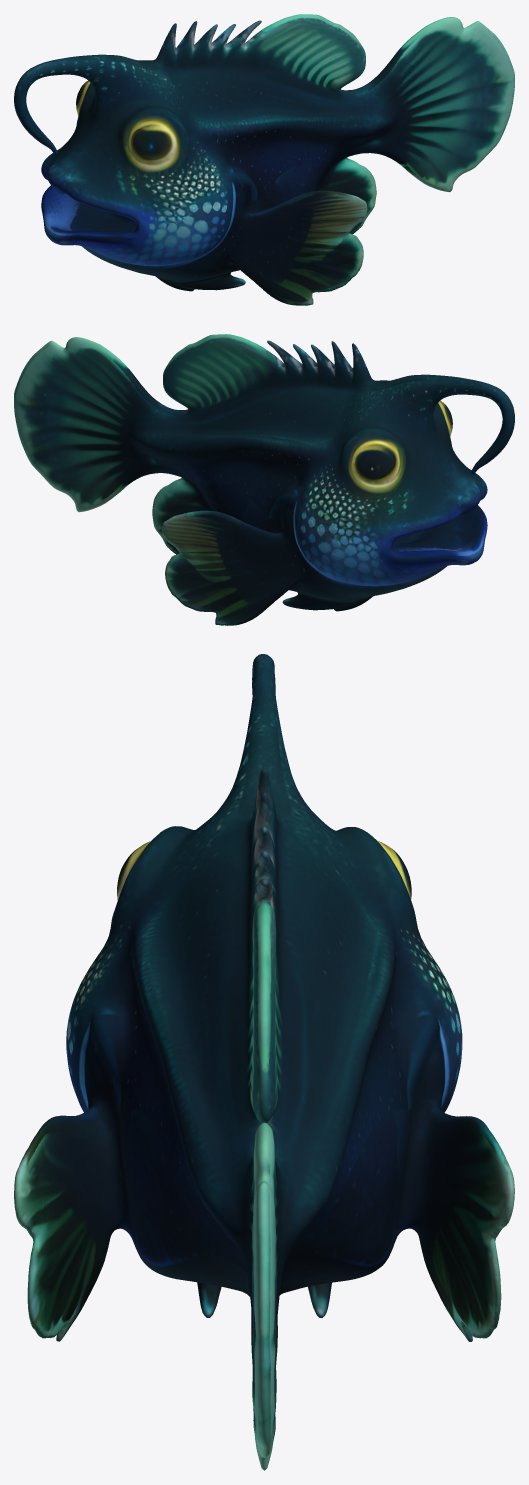
The model's file is romantex_23.glb.
The picture shows the model from 3 angles, top to bottom: view 1: azimuth 30°, elevation 25°; view 2: azimuth 150°, elevation 25°; view 3: azimuth 270°, elevation 25°; orthographic projection. The views are drawn at different scales.
Parts seen in each view (by area): view 1: texture_v130_hdr_21w_pbr_dino_11w.001; view 2: texture_v130_hdr_21w_pbr_dino_11w.001; view 3: texture_v130_hdr_21w_pbr_dino_11w.001.
Part boxes in pixels (left/top/right/bottom): texture_v130_hdr_21w_pbr_dino_11w.001: left=14, top=14, right=514, bottom=305; texture_v130_hdr_21w_pbr_dino_11w.001: left=14, top=334, right=514, bottom=625; texture_v130_hdr_21w_pbr_dino_11w.001: left=14, top=654, right=514, bottom=1470.
Bounding box in the file's own units: 2 × 1.04 × 0.914.
Materials: 1 (1 with a texture image).
